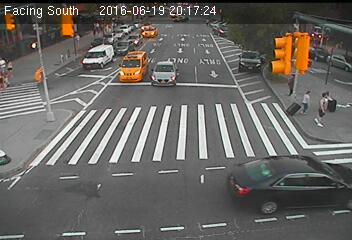neg: (286, 98, 302, 119), (325, 52, 338, 69)
pos: (302, 89, 320, 112), (286, 72, 304, 95)
